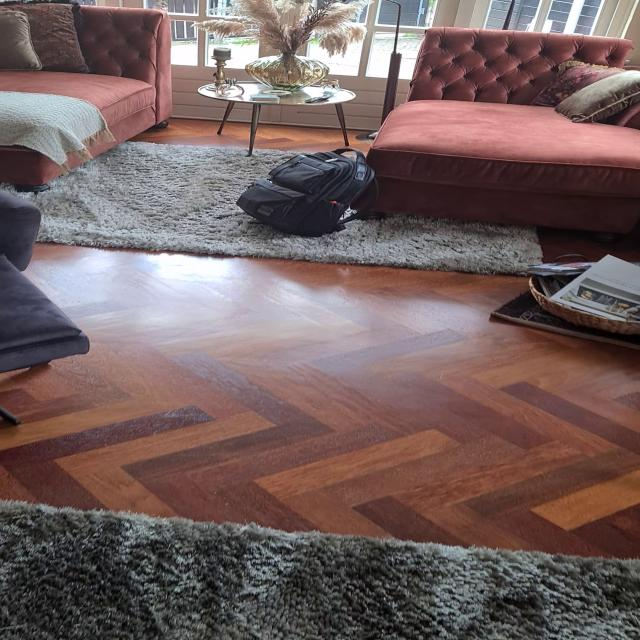backpack: (230, 145, 385, 239)
